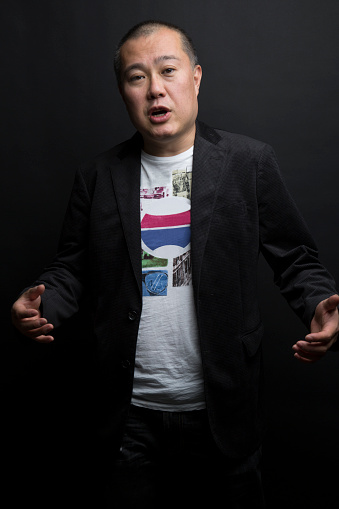em pe: (73, 0, 339, 501)
